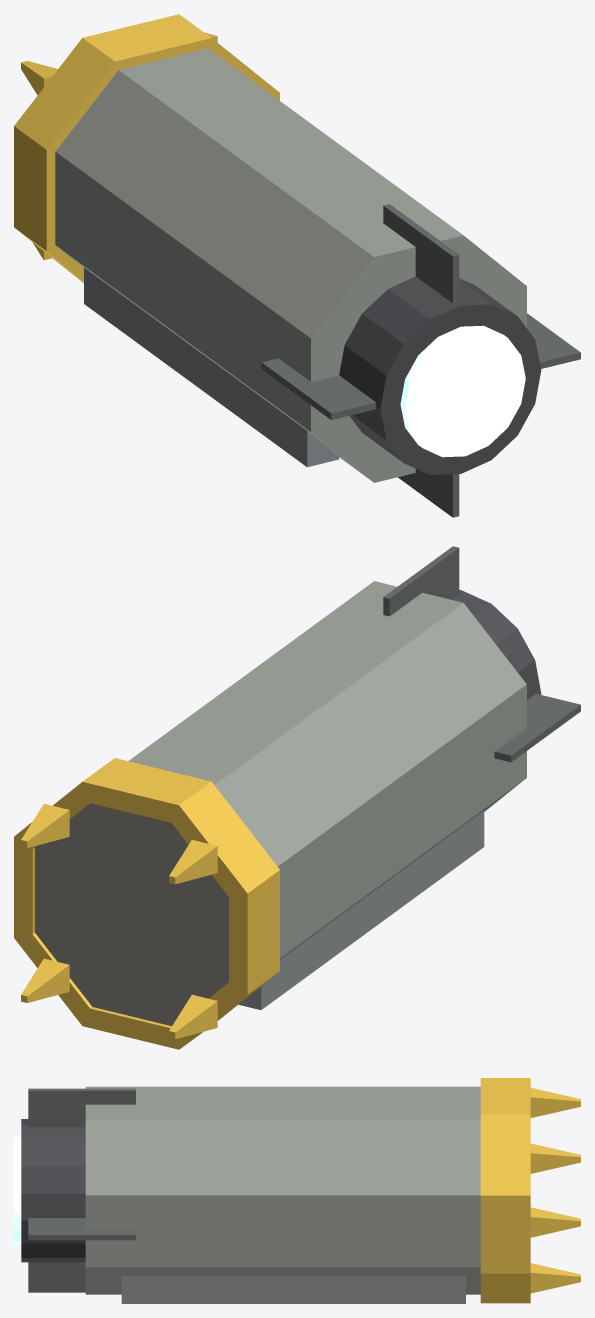
Rendered from ship_XS_POD.glb.
The picture shows the model from 3 angles, top to bottom: view 1: azimuth 30°, elevation 25°; view 2: azimuth 150°, elevation 25°; view 3: azimuth 270°, elevation 25°; orthographic projection. The views are drawn at different scales.
Visible parts, largest first — view 1: XS_POD_Hull-col, XS_POD_Engines, XS_POD_Hazard, XS_POD_EngineGlow, XS_POD_Trim, XS_POD_Interior-col; view 2: XS_POD_Hull-col, XS_POD_Hatch-col, XS_POD_Hazard, XS_POD_Interior-col, XS_POD_Trim, XS_POD_Engines; view 3: XS_POD_Hull-col, XS_POD_Hazard, XS_POD_Interior-col, XS_POD_Engines, XS_POD_Trim, XS_POD_EngineGlow.
Part boxes in pixels (x1,y1,x2,y2): XS_POD_Hull-col: (55, 48, 526, 482); XS_POD_Engines: (339, 276, 541, 475); XS_POD_Hazard: (14, 14, 279, 282); XS_POD_EngineGlow: (400, 325, 525, 457); XS_POD_Trim: (261, 204, 580, 517); XS_POD_Interior-col: (84, 267, 339, 467); XS_POD_Hull-col: (128, 581, 526, 959); XS_POD_Hatch-col: (35, 803, 228, 1026); XS_POD_Hazard: (14, 758, 279, 1049); XS_POD_Interior-col: (238, 811, 484, 1009); XS_POD_Trim: (383, 546, 580, 762); XS_POD_Engines: (453, 590, 541, 699); XS_POD_Hull-col: (85, 1086, 480, 1294); XS_POD_Hazard: (480, 1078, 580, 1303); XS_POD_Interior-col: (121, 1275, 465, 1303); XS_POD_Engines: (21, 1119, 85, 1262); XS_POD_Trim: (28, 1088, 135, 1292); XS_POD_EngineGlow: (14, 1137, 21, 1244).
Size of the model in its own units: 3.1 by 3.1 by 7.9.
